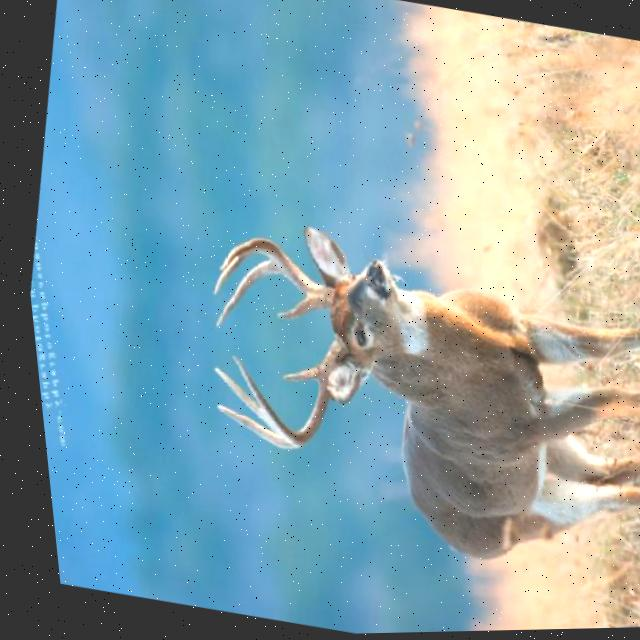L-F: (222, 334, 340, 447)
L-G1: (272, 363, 312, 384)
R-F: (211, 237, 330, 311)
R-G1: (268, 296, 309, 320)
R-G2: (207, 260, 276, 328)
